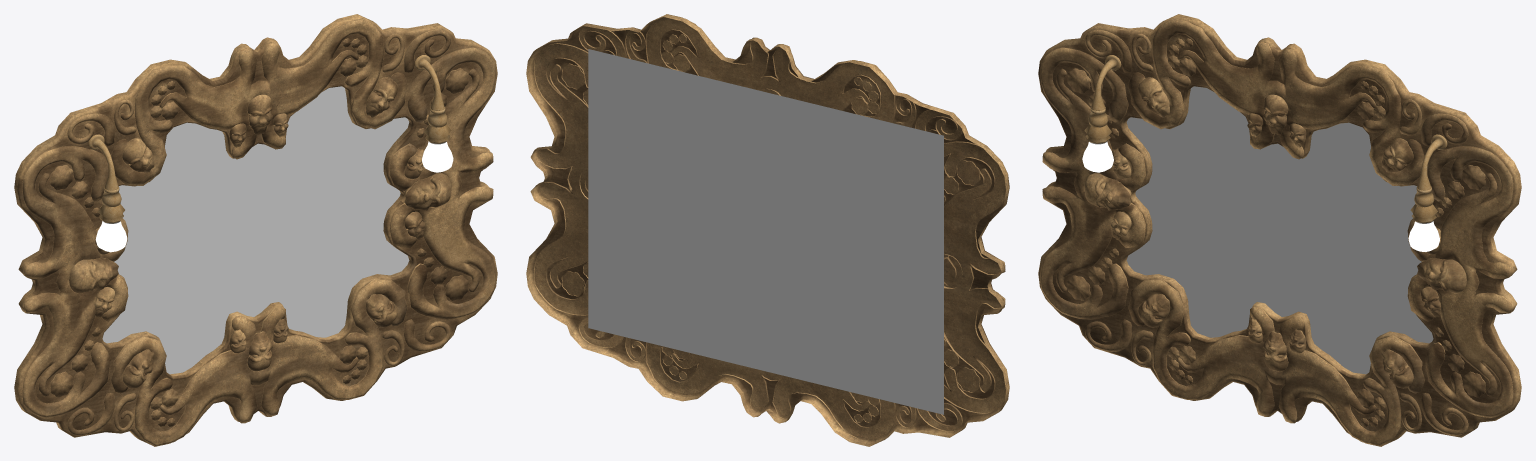
File: unseen_fancy_mirror.glb
3 renders of one model, left to right at view 1: azimuth 30°, elevation 25°; view 2: azimuth 150°, elevation 25°; view 3: azimuth 330°, elevation 25°, orthographic.
Visible parts, largest first — view 1: 2ndFlr_FancyMirror_Core, 2ndFlr_FancyMirror_Glass, 2ndFlr_FancyMirror_Lamp; view 2: 2ndFlr_FancyMirror_Glass, 2ndFlr_FancyMirror_Core; view 3: 2ndFlr_FancyMirror_Core, 2ndFlr_FancyMirror_Glass, 2ndFlr_FancyMirror_Lamp.
Part boxes in pixels (bbox=[...]): 2ndFlr_FancyMirror_Core: bbox=[14, 14, 497, 446]; 2ndFlr_FancyMirror_Glass: bbox=[102, 86, 409, 374]; 2ndFlr_FancyMirror_Lamp: bbox=[88, 55, 453, 252]; 2ndFlr_FancyMirror_Glass: bbox=[588, 49, 943, 414]; 2ndFlr_FancyMirror_Core: bbox=[526, 14, 1009, 446]; 2ndFlr_FancyMirror_Core: bbox=[1038, 14, 1521, 446]; 2ndFlr_FancyMirror_Glass: bbox=[1126, 86, 1433, 374]; 2ndFlr_FancyMirror_Lamp: bbox=[1082, 55, 1447, 251].
Bounding box in the file's own units: 108 × 81.62 × 11.12.
3 materials, 2 textured.
